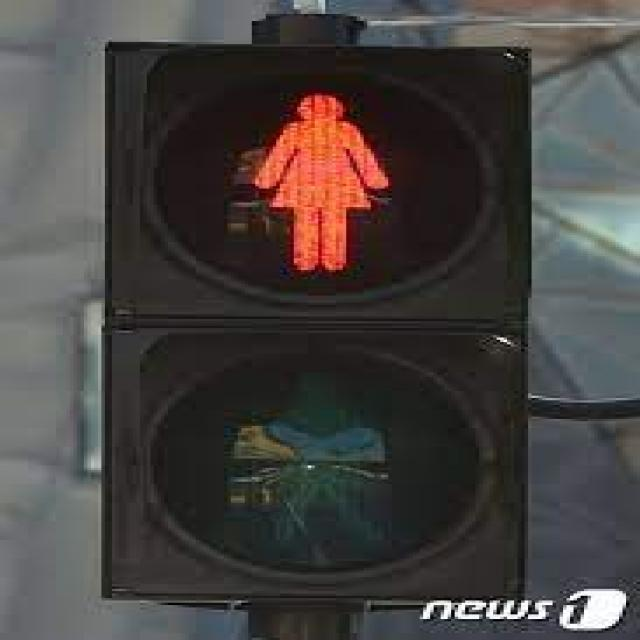Not go: (75, 37, 617, 605), (119, 57, 512, 315)
